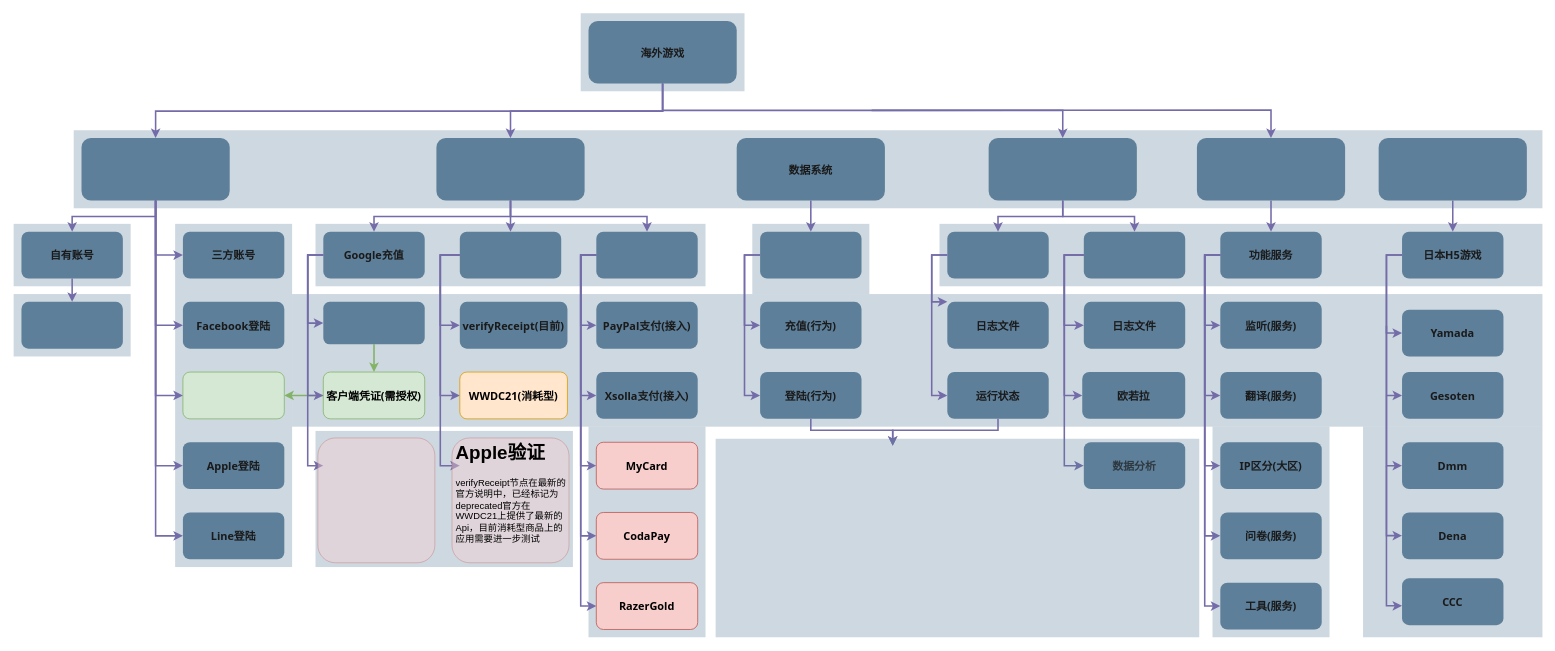
This 1555x651 diagram has some shape labels left out. The centre of each missing label's shape, as x and y in pixels:
"Apple充值" goes at (x=510, y=254).
"Google登陆" goes at (x=233, y=395).
"Google验证 服务账号转为客户端凭证验证，需要获取用户的授权，Google在最新的Api中已经将服务账号验证的主要类标记为弃用状态" goes at (x=376, y=500).
"H5平台" goes at (x=1452, y=169).
"三方充值" goes at (x=646, y=254).
"充值系统" goes at (x=510, y=169).
"其他" goes at (x=1271, y=169).
"手机/邮箱登陆" goes at (x=71, y=324).
"打点日志" goes at (x=1134, y=254).
"持久化 Redis：去重，限流 Mysql/Shard-JDBC：分库分表持久化关键数据 Log文件：存储打点日志（数据分析）" goes at (x=957, y=537).
"接口日志(Aop-Log)" goes at (x=997, y=254).
"日志系统" goes at (x=1062, y=169).
"服务账号验证(目前)" goes at (x=373, y=322).
"游戏事件" goes at (x=810, y=254).
"账号系统" goes at (x=155, y=169).
